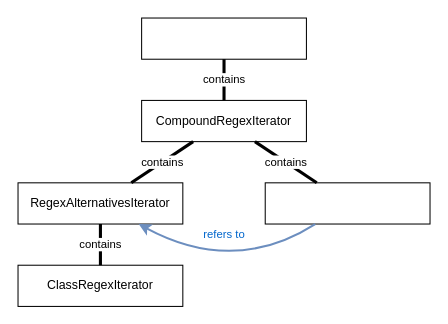
The diagram is 448 pixels wide and 324 high, and some of its shapes have lost their labels. Here are the shapes that lost their labels. From the top down, the box of each, then its label:
(141, 17, 306, 59): TopIterator
(264, 182, 430, 224): GroupReferenceIterator
